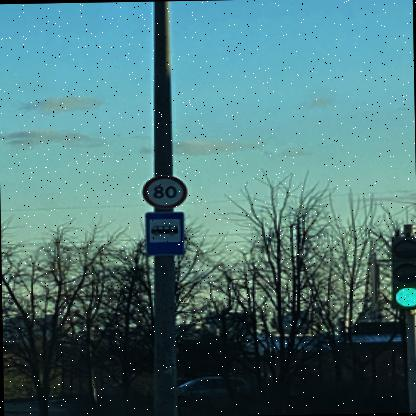speedlimit: (138, 173, 183, 205)
trafficlight: (387, 233, 415, 309)
